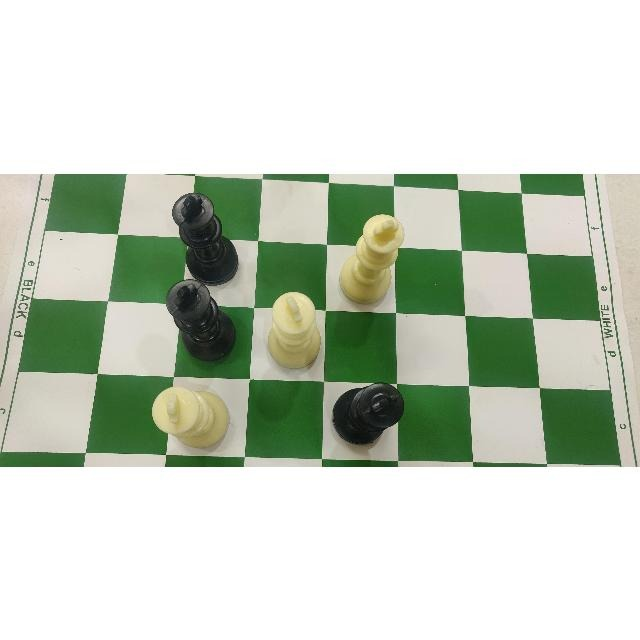black-king: (149, 270, 240, 361), (158, 187, 243, 280), (331, 376, 405, 454)
white-king: (146, 382, 233, 452), (345, 213, 400, 307), (265, 287, 323, 369)
